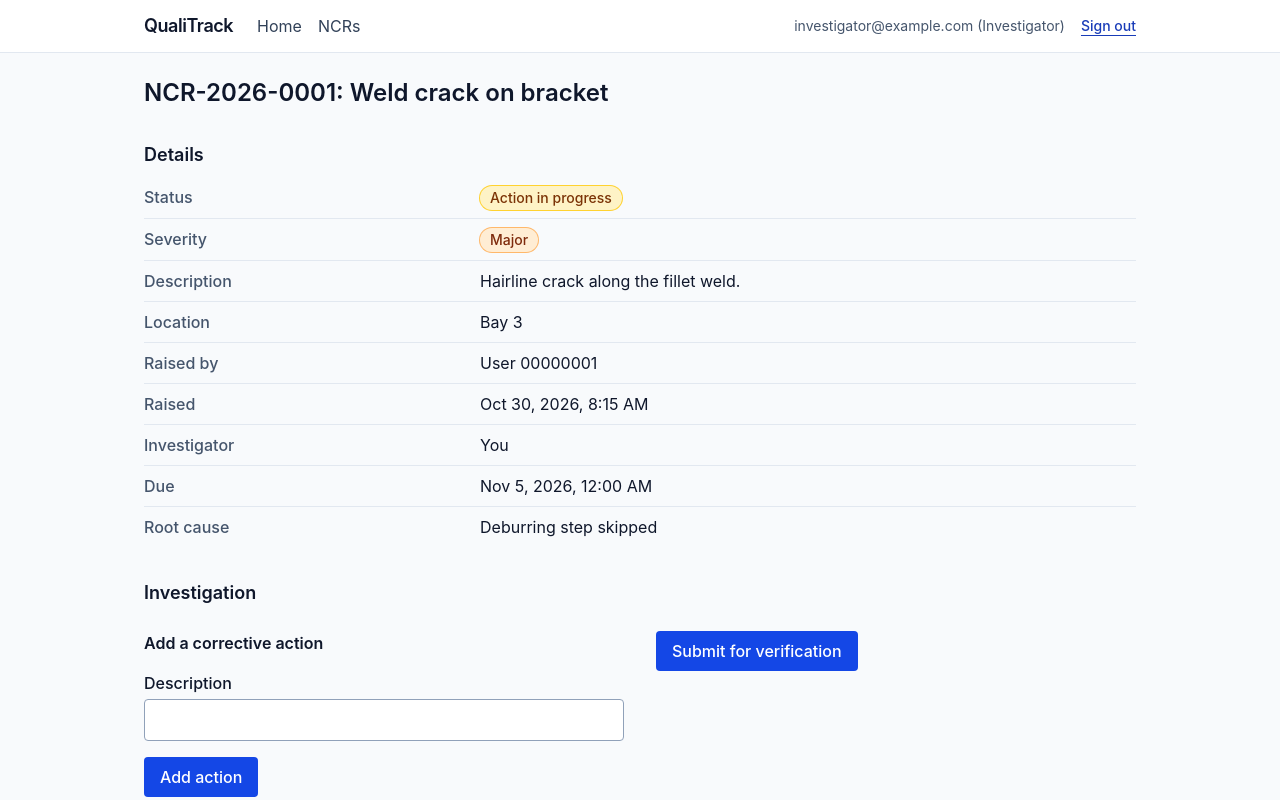
Test: Investigation on the NCR page › submits for verification, and says why when the API refuses
Click the button "Submit for verification" at [757, 651], box [656,631,858,671]
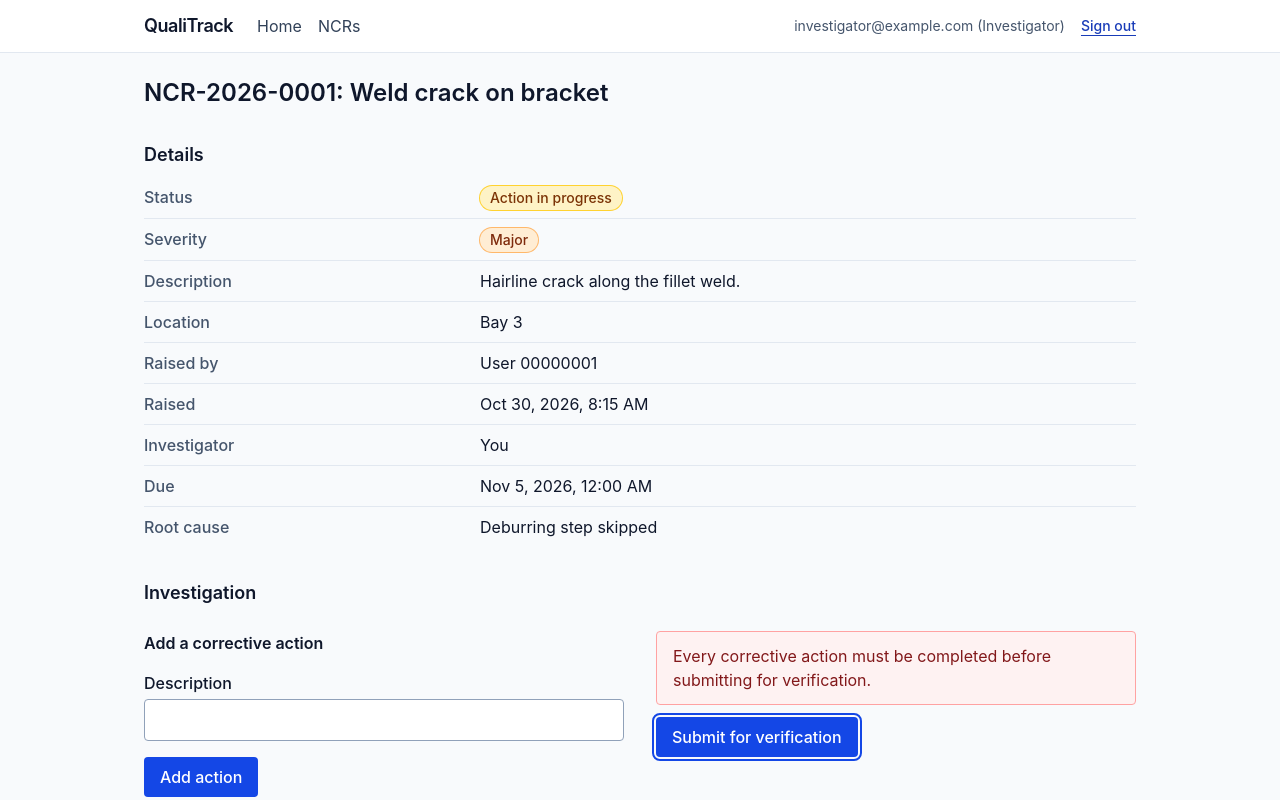
Check: the message shows "Every corrective action must be completed", box [673,646,1051,690]
